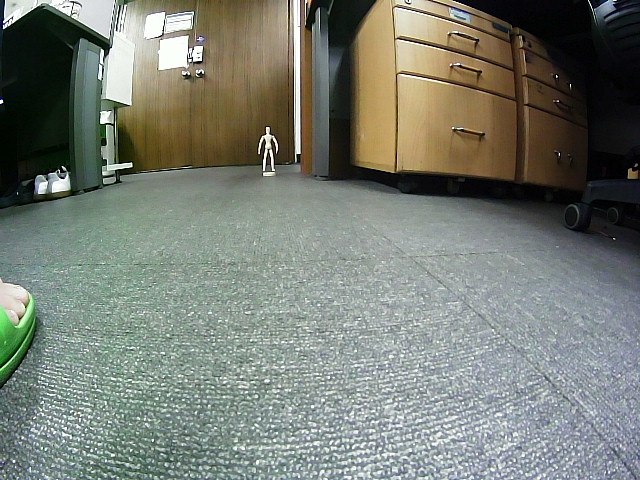person: (257, 127, 279, 173)
